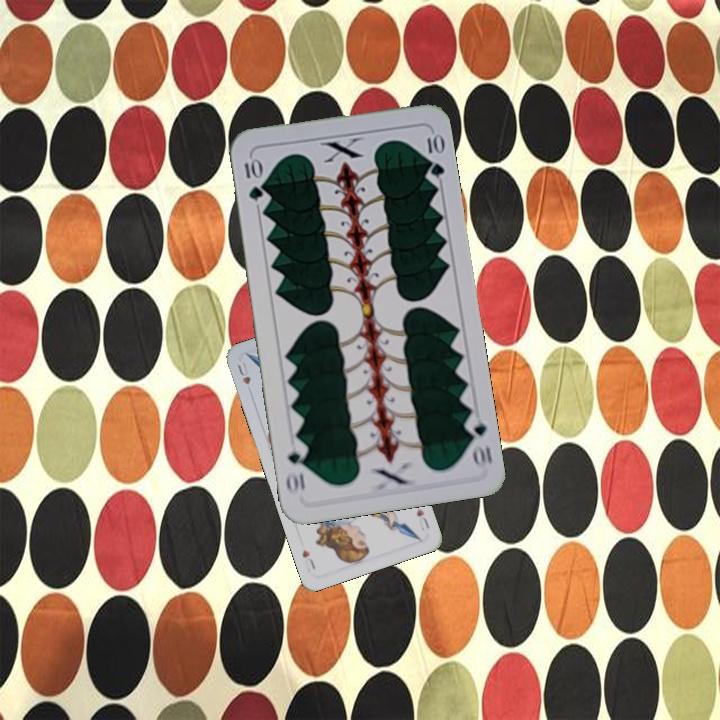G10: (461, 413, 495, 471), (240, 153, 265, 203)
HU: (233, 358, 253, 387), (413, 504, 432, 533)
